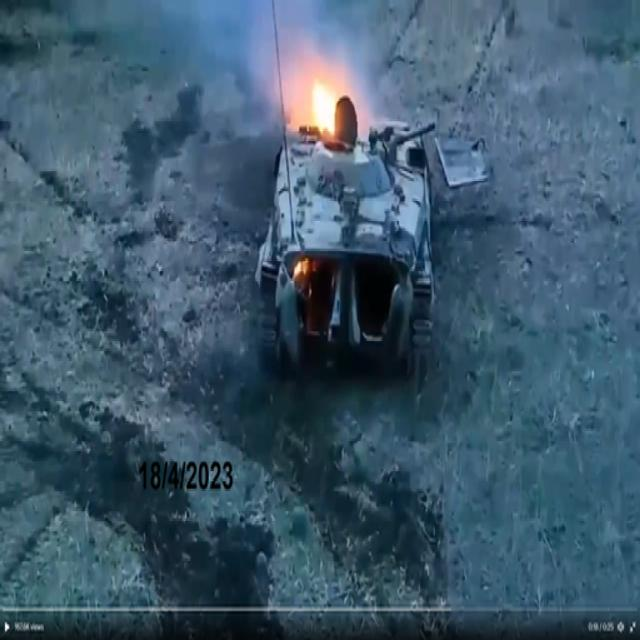APC-IFV: (258, 100, 432, 380)
